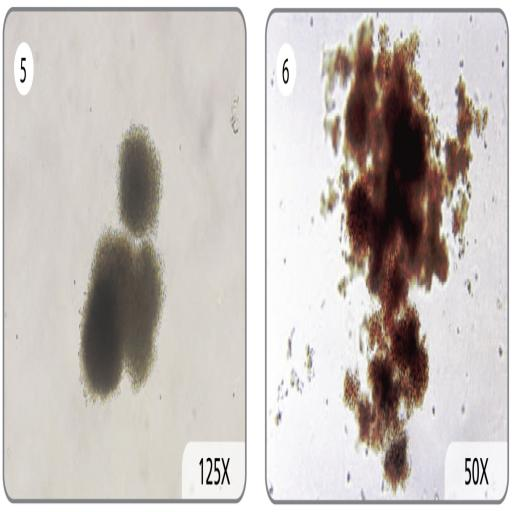BFU-E: (321, 18, 488, 491), (79, 231, 164, 399), (118, 125, 162, 237)
